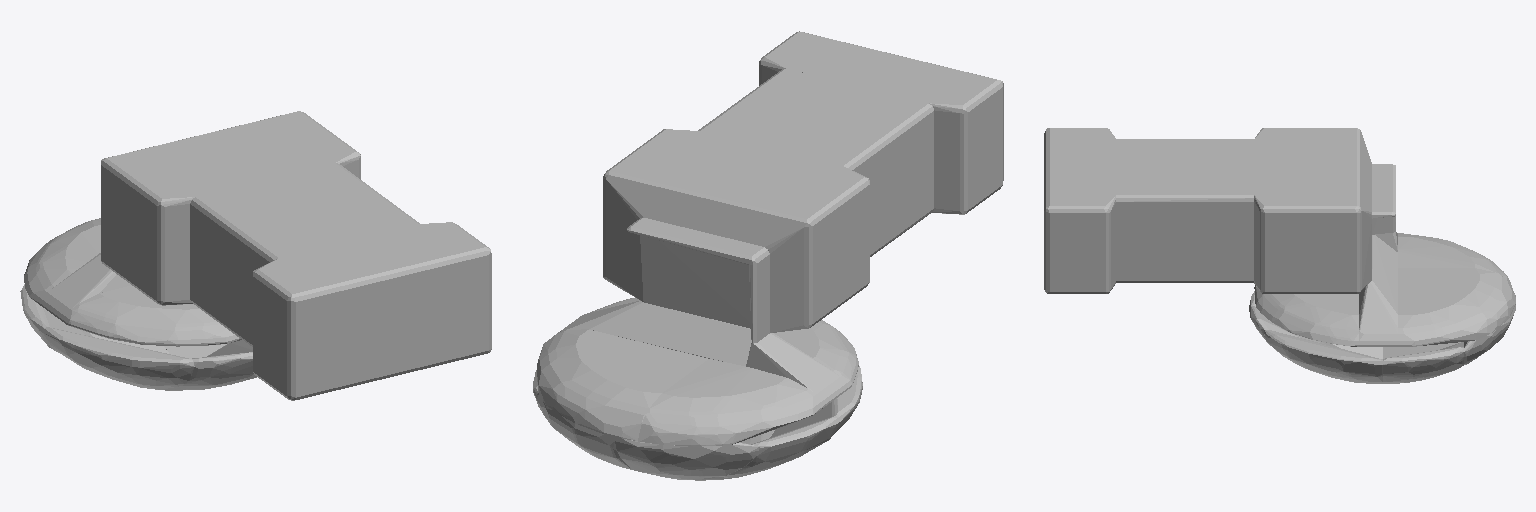
URDF robot description (root):
<robot name="root">
  <link name="link_coacd_convex_piece_0">
    <inertial>
      <origin xyz="0 0 0" rpy="0 0 0"/>
      <inertia ixx="-1.92E-03" ixy="-2.78E-04" ixz="-7.53E-05" iyy="2.57E-03" iyz="-5.13E-03" izz="-2.12E-04"/>
    </inertial>
    <visual>
      <origin xyz="0 0 0" rpy="0 0 0"/>
      <geometry>
        <mesh filename="coacd_convex_piece_0.obj" scale="1.0000E+00 1.0000E+00 1.0000E+00"/>
      </geometry>
      <material name="">
        <color rgba="7.50E-01 7.50E-01 7.50E-01 1"/>
      </material>
    </visual>
    <collision>
      <origin xyz="0 0 0" rpy="0 0 0"/>
      <geometry>
        <mesh filename="coacd_convex_piece_0.obj" scale="1.0000E+00 1.0000E+00 1.0000E+00"/>
      </geometry>
    </collision>
  </link>
  <link name="link_coacd_convex_piece_1">
    <inertial>
      <origin xyz="0 0 0" rpy="0 0 0"/>
      <inertia ixx="3.66E-03" ixy="1.49E-04" ixz="-7.73E-05" iyy="1.55E-03" iyz="8.93E-04" izz="4.24E-03"/>
    </inertial>
    <visual>
      <origin xyz="0 0 0" rpy="0 0 0"/>
      <geometry>
        <mesh filename="coacd_convex_piece_1.obj" scale="1.0000E+00 1.0000E+00 1.0000E+00"/>
      </geometry>
      <material name="">
        <color rgba="7.50E-01 7.50E-01 7.50E-01 1"/>
      </material>
    </visual>
    <collision>
      <origin xyz="0 0 0" rpy="0 0 0"/>
      <geometry>
        <mesh filename="coacd_convex_piece_1.obj" scale="1.0000E+00 1.0000E+00 1.0000E+00"/>
      </geometry>
    </collision>
  </link>
  <joint name="link_coacd_convex_piece_1_joint" type="fixed">
    <origin xyz="0 0 0" rpy="0 0 0"/>
    <parent link="link_coacd_convex_piece_0"/>
    <child link="link_coacd_convex_piece_1"/>
  </joint>
  <link name="link_coacd_convex_piece_2">
    <inertial>
      <origin xyz="0 0 0" rpy="0 0 0"/>
      <inertia ixx="1.54E-02" ixy="3.36E-04" ixz="-5.33E-05" iyy="1.67E-03" iyz="3.76E-03" izz="1.64E-02"/>
    </inertial>
    <visual>
      <origin xyz="0 0 0" rpy="0 0 0"/>
      <geometry>
        <mesh filename="coacd_convex_piece_2.obj" scale="1.0000E+00 1.0000E+00 1.0000E+00"/>
      </geometry>
      <material name="">
        <color rgba="7.50E-01 7.50E-01 7.50E-01 1"/>
      </material>
    </visual>
    <collision>
      <origin xyz="0 0 0" rpy="0 0 0"/>
      <geometry>
        <mesh filename="coacd_convex_piece_2.obj" scale="1.0000E+00 1.0000E+00 1.0000E+00"/>
      </geometry>
    </collision>
  </link>
  <joint name="link_coacd_convex_piece_2_joint" type="fixed">
    <origin xyz="0 0 0" rpy="0 0 0"/>
    <parent link="link_coacd_convex_piece_1"/>
    <child link="link_coacd_convex_piece_2"/>
  </joint>
  <link name="link_coacd_convex_piece_3">
    <inertial>
      <origin xyz="0 0 0" rpy="0 0 0"/>
      <inertia ixx="4.60E-05" ixy="-1.68E-07" ixz="2.18E-06" iyy="2.34E-05" iyz="-7.78E-05" izz="3.52E-05"/>
    </inertial>
    <visual>
      <origin xyz="0 0 0" rpy="0 0 0"/>
      <geometry>
        <mesh filename="coacd_convex_piece_3.obj" scale="1.0000E+00 1.0000E+00 1.0000E+00"/>
      </geometry>
      <material name="">
        <color rgba="7.50E-01 7.50E-01 7.50E-01 1"/>
      </material>
    </visual>
    <collision>
      <origin xyz="0 0 0" rpy="0 0 0"/>
      <geometry>
        <mesh filename="coacd_convex_piece_3.obj" scale="1.0000E+00 1.0000E+00 1.0000E+00"/>
      </geometry>
    </collision>
  </link>
  <joint name="link_coacd_convex_piece_3_joint" type="fixed">
    <origin xyz="0 0 0" rpy="0 0 0"/>
    <parent link="link_coacd_convex_piece_2"/>
    <child link="link_coacd_convex_piece_3"/>
  </joint>
  <link name="link_coacd_convex_piece_4">
    <inertial>
      <origin xyz="0 0 0" rpy="0 0 0"/>
      <inertia ixx="1.44E-05" ixy="2.34E-05" ixz="1.32E-05" iyy="6.47E-06" iyz="-4.33E-05" izz="3.51E-05"/>
    </inertial>
    <visual>
      <origin xyz="0 0 0" rpy="0 0 0"/>
      <geometry>
        <mesh filename="coacd_convex_piece_4.obj" scale="1.0000E+00 1.0000E+00 1.0000E+00"/>
      </geometry>
      <material name="">
        <color rgba="7.50E-01 7.50E-01 7.50E-01 1"/>
      </material>
    </visual>
    <collision>
      <origin xyz="0 0 0" rpy="0 0 0"/>
      <geometry>
        <mesh filename="coacd_convex_piece_4.obj" scale="1.0000E+00 1.0000E+00 1.0000E+00"/>
      </geometry>
    </collision>
  </link>
  <joint name="link_coacd_convex_piece_4_joint" type="fixed">
    <origin xyz="0 0 0" rpy="0 0 0"/>
    <parent link="link_coacd_convex_piece_3"/>
    <child link="link_coacd_convex_piece_4"/>
  </joint>
  <link name="link_coacd_convex_piece_5">
    <inertial>
      <origin xyz="0 0 0" rpy="0 0 0"/>
      <inertia ixx="1.62E-03" ixy="-5.73E-04" ixz="8.04E-05" iyy="-1.04E-04" iyz="-1.64E-04" izz="2.22E-03"/>
    </inertial>
    <visual>
      <origin xyz="0 0 0" rpy="0 0 0"/>
      <geometry>
        <mesh filename="coacd_convex_piece_5.obj" scale="1.0000E+00 1.0000E+00 1.0000E+00"/>
      </geometry>
      <material name="">
        <color rgba="7.50E-01 7.50E-01 7.50E-01 1"/>
      </material>
    </visual>
    <collision>
      <origin xyz="0 0 0" rpy="0 0 0"/>
      <geometry>
        <mesh filename="coacd_convex_piece_5.obj" scale="1.0000E+00 1.0000E+00 1.0000E+00"/>
      </geometry>
    </collision>
  </link>
  <joint name="link_coacd_convex_piece_5_joint" type="fixed">
    <origin xyz="0 0 0" rpy="0 0 0"/>
    <parent link="link_coacd_convex_piece_4"/>
    <child link="link_coacd_convex_piece_5"/>
  </joint>
  <link name="link_coacd_convex_piece_6">
    <inertial>
      <origin xyz="0 0 0" rpy="0 0 0"/>
      <inertia ixx="9.42E-04" ixy="4.99E-04" ixz="-4.38E-05" iyy="1.11E-05" iyz="-1.07E-04" izz="1.40E-03"/>
    </inertial>
    <visual>
      <origin xyz="0 0 0" rpy="0 0 0"/>
      <geometry>
        <mesh filename="coacd_convex_piece_6.obj" scale="1.0000E+00 1.0000E+00 1.0000E+00"/>
      </geometry>
      <material name="">
        <color rgba="7.50E-01 7.50E-01 7.50E-01 1"/>
      </material>
    </visual>
    <collision>
      <origin xyz="0 0 0" rpy="0 0 0"/>
      <geometry>
        <mesh filename="coacd_convex_piece_6.obj" scale="1.0000E+00 1.0000E+00 1.0000E+00"/>
      </geometry>
    </collision>
  </link>
  <joint name="link_coacd_convex_piece_6_joint" type="fixed">
    <origin xyz="0 0 0" rpy="0 0 0"/>
    <parent link="link_coacd_convex_piece_5"/>
    <child link="link_coacd_convex_piece_6"/>
  </joint>
  <link name="link_coacd_convex_piece_7">
    <inertial>
      <origin xyz="0 0 0" rpy="0 0 0"/>
      <inertia ixx="-8.93E-04" ixy="-2.76E-05" ixz="2.65E-05" iyy="-1.32E-04" iyz="-5.16E-04" izz="3.04E-06"/>
    </inertial>
    <visual>
      <origin xyz="0 0 0" rpy="0 0 0"/>
      <geometry>
        <mesh filename="coacd_convex_piece_7.obj" scale="1.0000E+00 1.0000E+00 1.0000E+00"/>
      </geometry>
      <material name="">
        <color rgba="7.50E-01 7.50E-01 7.50E-01 1"/>
      </material>
    </visual>
    <collision>
      <origin xyz="0 0 0" rpy="0 0 0"/>
      <geometry>
        <mesh filename="coacd_convex_piece_7.obj" scale="1.0000E+00 1.0000E+00 1.0000E+00"/>
      </geometry>
    </collision>
  </link>
  <joint name="link_coacd_convex_piece_7_joint" type="fixed">
    <origin xyz="0 0 0" rpy="0 0 0"/>
    <parent link="link_coacd_convex_piece_6"/>
    <child link="link_coacd_convex_piece_7"/>
  </joint>
  <link name="link_coacd_convex_piece_8">
    <inertial>
      <origin xyz="0 0 0" rpy="0 0 0"/>
      <inertia ixx="-2.63E-05" ixy="-1.84E-04" ixz="3.26E-05" iyy="-6.45E-05" iyz="-2.30E-04" izz="3.86E-04"/>
    </inertial>
    <visual>
      <origin xyz="0 0 0" rpy="0 0 0"/>
      <geometry>
        <mesh filename="coacd_convex_piece_8.obj" scale="1.0000E+00 1.0000E+00 1.0000E+00"/>
      </geometry>
      <material name="">
        <color rgba="7.50E-01 7.50E-01 7.50E-01 1"/>
      </material>
    </visual>
    <collision>
      <origin xyz="0 0 0" rpy="0 0 0"/>
      <geometry>
        <mesh filename="coacd_convex_piece_8.obj" scale="1.0000E+00 1.0000E+00 1.0000E+00"/>
      </geometry>
    </collision>
  </link>
  <joint name="link_coacd_convex_piece_8_joint" type="fixed">
    <origin xyz="0 0 0" rpy="0 0 0"/>
    <parent link="link_coacd_convex_piece_7"/>
    <child link="link_coacd_convex_piece_8"/>
  </joint>
  <link name="link_coacd_convex_piece_9">
    <inertial>
      <origin xyz="0 0 0" rpy="0 0 0"/>
      <inertia ixx="-2.71E-06" ixy="1.38E-04" ixz="-7.84E-06" iyy="4.75E-05" iyz="-7.57E-05" izz="2.03E-04"/>
    </inertial>
    <visual>
      <origin xyz="0 0 0" rpy="0 0 0"/>
      <geometry>
        <mesh filename="coacd_convex_piece_9.obj" scale="1.0000E+00 1.0000E+00 1.0000E+00"/>
      </geometry>
      <material name="">
        <color rgba="7.50E-01 7.50E-01 7.50E-01 1"/>
      </material>
    </visual>
    <collision>
      <origin xyz="0 0 0" rpy="0 0 0"/>
      <geometry>
        <mesh filename="coacd_convex_piece_9.obj" scale="1.0000E+00 1.0000E+00 1.0000E+00"/>
      </geometry>
    </collision>
  </link>
  <joint name="link_coacd_convex_piece_9_joint" type="fixed">
    <origin xyz="0 0 0" rpy="0 0 0"/>
    <parent link="link_coacd_convex_piece_8"/>
    <child link="link_coacd_convex_piece_9"/>
  </joint>
  <link name="link_coacd_convex_piece_10">
    <inertial>
      <origin xyz="0 0 0" rpy="0 0 0"/>
      <inertia ixx="9.66E-04" ixy="-2.35E-04" ixz="6.38E-05" iyy="1.12E-05" iyz="1.57E-04" izz="1.08E-03"/>
    </inertial>
    <visual>
      <origin xyz="0 0 0" rpy="0 0 0"/>
      <geometry>
        <mesh filename="coacd_convex_piece_10.obj" scale="1.0000E+00 1.0000E+00 1.0000E+00"/>
      </geometry>
      <material name="">
        <color rgba="7.50E-01 7.50E-01 7.50E-01 1"/>
      </material>
    </visual>
    <collision>
      <origin xyz="0 0 0" rpy="0 0 0"/>
      <geometry>
        <mesh filename="coacd_convex_piece_10.obj" scale="1.0000E+00 1.0000E+00 1.0000E+00"/>
      </geometry>
    </collision>
  </link>
  <joint name="link_coacd_convex_piece_10_joint" type="fixed">
    <origin xyz="0 0 0" rpy="0 0 0"/>
    <parent link="link_coacd_convex_piece_9"/>
    <child link="link_coacd_convex_piece_10"/>
  </joint>
  <link name="link_coacd_convex_piece_11">
    <inertial>
      <origin xyz="0 0 0" rpy="0 0 0"/>
      <inertia ixx="9.63E-04" ixy="2.22E-04" ixz="-5.15E-05" iyy="1.23E-05" iyz="1.58E-04" izz="1.08E-03"/>
    </inertial>
    <visual>
      <origin xyz="0 0 0" rpy="0 0 0"/>
      <geometry>
        <mesh filename="coacd_convex_piece_11.obj" scale="1.0000E+00 1.0000E+00 1.0000E+00"/>
      </geometry>
      <material name="">
        <color rgba="7.50E-01 7.50E-01 7.50E-01 1"/>
      </material>
    </visual>
    <collision>
      <origin xyz="0 0 0" rpy="0 0 0"/>
      <geometry>
        <mesh filename="coacd_convex_piece_11.obj" scale="1.0000E+00 1.0000E+00 1.0000E+00"/>
      </geometry>
    </collision>
  </link>
  <joint name="link_coacd_convex_piece_11_joint" type="fixed">
    <origin xyz="0 0 0" rpy="0 0 0"/>
    <parent link="link_coacd_convex_piece_10"/>
    <child link="link_coacd_convex_piece_11"/>
  </joint>
  <link name="link_coacd_convex_piece_12">
    <inertial>
      <origin xyz="0 0 0" rpy="0 0 0"/>
      <inertia ixx="-1.36E-04" ixy="-2.53E-04" ixz="2.57E-04" iyy="3.35E-04" iyz="-8.47E-05" izz="3.04E-04"/>
    </inertial>
    <visual>
      <origin xyz="0 0 0" rpy="0 0 0"/>
      <geometry>
        <mesh filename="coacd_convex_piece_12.obj" scale="1.0000E+00 1.0000E+00 1.0000E+00"/>
      </geometry>
      <material name="">
        <color rgba="7.50E-01 7.50E-01 7.50E-01 1"/>
      </material>
    </visual>
    <collision>
      <origin xyz="0 0 0" rpy="0 0 0"/>
      <geometry>
        <mesh filename="coacd_convex_piece_12.obj" scale="1.0000E+00 1.0000E+00 1.0000E+00"/>
      </geometry>
    </collision>
  </link>
  <joint name="link_coacd_convex_piece_12_joint" type="fixed">
    <origin xyz="0 0 0" rpy="0 0 0"/>
    <parent link="link_coacd_convex_piece_11"/>
    <child link="link_coacd_convex_piece_12"/>
  </joint>
  <link name="link_coacd_convex_piece_13">
    <inertial>
      <origin xyz="0 0 0" rpy="0 0 0"/>
      <inertia ixx="-1.06E-04" ixy="-6.92E-05" ixz="1.26E-04" iyy="1.16E-04" iyz="-1.04E-04" izz="-1.07E-04"/>
    </inertial>
    <visual>
      <origin xyz="0 0 0" rpy="0 0 0"/>
      <geometry>
        <mesh filename="coacd_convex_piece_13.obj" scale="1.0000E+00 1.0000E+00 1.0000E+00"/>
      </geometry>
      <material name="">
        <color rgba="7.50E-01 7.50E-01 7.50E-01 1"/>
      </material>
    </visual>
    <collision>
      <origin xyz="0 0 0" rpy="0 0 0"/>
      <geometry>
        <mesh filename="coacd_convex_piece_13.obj" scale="1.0000E+00 1.0000E+00 1.0000E+00"/>
      </geometry>
    </collision>
  </link>
  <joint name="link_coacd_convex_piece_13_joint" type="fixed">
    <origin xyz="0 0 0" rpy="0 0 0"/>
    <parent link="link_coacd_convex_piece_12"/>
    <child link="link_coacd_convex_piece_13"/>
  </joint>
  <link name="link_coacd_convex_piece_14">
    <inertial>
      <origin xyz="0 0 0" rpy="0 0 0"/>
      <inertia ixx="-1.01E-04" ixy="4.21E-05" ixz="-9.94E-05" iyy="1.19E-04" iyz="-1.03E-04" izz="-1.09E-04"/>
    </inertial>
    <visual>
      <origin xyz="0 0 0" rpy="0 0 0"/>
      <geometry>
        <mesh filename="coacd_convex_piece_14.obj" scale="1.0000E+00 1.0000E+00 1.0000E+00"/>
      </geometry>
      <material name="">
        <color rgba="7.50E-01 7.50E-01 7.50E-01 1"/>
      </material>
    </visual>
    <collision>
      <origin xyz="0 0 0" rpy="0 0 0"/>
      <geometry>
        <mesh filename="coacd_convex_piece_14.obj" scale="1.0000E+00 1.0000E+00 1.0000E+00"/>
      </geometry>
    </collision>
  </link>
  <joint name="link_coacd_convex_piece_14_joint" type="fixed">
    <origin xyz="0 0 0" rpy="0 0 0"/>
    <parent link="link_coacd_convex_piece_13"/>
    <child link="link_coacd_convex_piece_14"/>
  </joint>
  <link name="link_coacd_convex_piece_15">
    <inertial>
      <origin xyz="0 0 0" rpy="0 0 0"/>
      <inertia ixx="-1.47E-04" ixy="2.36E-04" ixz="-2.45E-04" iyy="3.48E-04" iyz="-9.08E-05" izz="3.12E-04"/>
    </inertial>
    <visual>
      <origin xyz="0 0 0" rpy="0 0 0"/>
      <geometry>
        <mesh filename="coacd_convex_piece_15.obj" scale="1.0000E+00 1.0000E+00 1.0000E+00"/>
      </geometry>
      <material name="">
        <color rgba="7.50E-01 7.50E-01 7.50E-01 1"/>
      </material>
    </visual>
    <collision>
      <origin xyz="0 0 0" rpy="0 0 0"/>
      <geometry>
        <mesh filename="coacd_convex_piece_15.obj" scale="1.0000E+00 1.0000E+00 1.0000E+00"/>
      </geometry>
    </collision>
  </link>
  <joint name="link_coacd_convex_piece_15_joint" type="fixed">
    <origin xyz="0 0 0" rpy="0 0 0"/>
    <parent link="link_coacd_convex_piece_14"/>
    <child link="link_coacd_convex_piece_15"/>
  </joint>
  <link name="link_coacd_convex_piece_16">
    <inertial>
      <origin xyz="0 0 0" rpy="0 0 0"/>
      <inertia ixx="3.90E-04" ixy="-3.83E-04" ixz="1.66E-04" iyy="2.39E-04" iyz="9.52E-05" izz="6.81E-04"/>
    </inertial>
    <visual>
      <origin xyz="0 0 0" rpy="0 0 0"/>
      <geometry>
        <mesh filename="coacd_convex_piece_16.obj" scale="1.0000E+00 1.0000E+00 1.0000E+00"/>
      </geometry>
      <material name="">
        <color rgba="7.50E-01 7.50E-01 7.50E-01 1"/>
      </material>
    </visual>
    <collision>
      <origin xyz="0 0 0" rpy="0 0 0"/>
      <geometry>
        <mesh filename="coacd_convex_piece_16.obj" scale="1.0000E+00 1.0000E+00 1.0000E+00"/>
      </geometry>
    </collision>
  </link>
  <joint name="link_coacd_convex_piece_16_joint" type="fixed">
    <origin xyz="0 0 0" rpy="0 0 0"/>
    <parent link="link_coacd_convex_piece_15"/>
    <child link="link_coacd_convex_piece_16"/>
  </joint>
  <link name="link_coacd_convex_piece_17">
    <inertial>
      <origin xyz="0 0 0" rpy="0 0 0"/>
      <inertia ixx="5.12E-04" ixy="-1.36E-04" ixz="8.41E-05" iyy="1.30E-04" iyz="2.05E-04" izz="4.59E-04"/>
    </inertial>
    <visual>
      <origin xyz="0 0 0" rpy="0 0 0"/>
      <geometry>
        <mesh filename="coacd_convex_piece_17.obj" scale="1.0000E+00 1.0000E+00 1.0000E+00"/>
      </geometry>
      <material name="">
        <color rgba="7.50E-01 7.50E-01 7.50E-01 1"/>
      </material>
    </visual>
    <collision>
      <origin xyz="0 0 0" rpy="0 0 0"/>
      <geometry>
        <mesh filename="coacd_convex_piece_17.obj" scale="1.0000E+00 1.0000E+00 1.0000E+00"/>
      </geometry>
    </collision>
  </link>
  <joint name="link_coacd_convex_piece_17_joint" type="fixed">
    <origin xyz="0 0 0" rpy="0 0 0"/>
    <parent link="link_coacd_convex_piece_16"/>
    <child link="link_coacd_convex_piece_17"/>
  </joint>
  <link name="link_coacd_convex_piece_18">
    <inertial>
      <origin xyz="0 0 0" rpy="0 0 0"/>
      <inertia ixx="4.76E-04" ixy="1.08E-04" ixz="-6.44E-05" iyy="1.22E-04" iyz="1.93E-04" izz="4.20E-04"/>
    </inertial>
    <visual>
      <origin xyz="0 0 0" rpy="0 0 0"/>
      <geometry>
        <mesh filename="coacd_convex_piece_18.obj" scale="1.0000E+00 1.0000E+00 1.0000E+00"/>
      </geometry>
      <material name="">
        <color rgba="7.50E-01 7.50E-01 7.50E-01 1"/>
      </material>
    </visual>
    <collision>
      <origin xyz="0 0 0" rpy="0 0 0"/>
      <geometry>
        <mesh filename="coacd_convex_piece_18.obj" scale="1.0000E+00 1.0000E+00 1.0000E+00"/>
      </geometry>
    </collision>
  </link>
  <joint name="link_coacd_convex_piece_18_joint" type="fixed">
    <origin xyz="0 0 0" rpy="0 0 0"/>
    <parent link="link_coacd_convex_piece_17"/>
    <child link="link_coacd_convex_piece_18"/>
  </joint>
  <link name="link_coacd_convex_piece_19">
    <inertial>
      <origin xyz="0 0 0" rpy="0 0 0"/>
      <inertia ixx="4.11E-04" ixy="3.83E-04" ixz="-1.60E-04" iyy="2.48E-04" iyz="1.02E-04" izz="7.10E-04"/>
    </inertial>
    <visual>
      <origin xyz="0 0 0" rpy="0 0 0"/>
      <geometry>
        <mesh filename="coacd_convex_piece_19.obj" scale="1.0000E+00 1.0000E+00 1.0000E+00"/>
      </geometry>
      <material name="">
        <color rgba="7.50E-01 7.50E-01 7.50E-01 1"/>
      </material>
    </visual>
    <collision>
      <origin xyz="0 0 0" rpy="0 0 0"/>
      <geometry>
        <mesh filename="coacd_convex_piece_19.obj" scale="1.0000E+00 1.0000E+00 1.0000E+00"/>
      </geometry>
    </collision>
  </link>
  <joint name="link_coacd_convex_piece_19_joint" type="fixed">
    <origin xyz="0 0 0" rpy="0 0 0"/>
    <parent link="link_coacd_convex_piece_18"/>
    <child link="link_coacd_convex_piece_19"/>
  </joint>
</robot>

--- Facts derived from the render (not from the file) ---
3 views of the same robot in one strip: view 1: azimuth 30°, elevation 25°; view 2: azimuth 150°, elevation 25°; view 3: azimuth 270°, elevation 25° (orthographic).
Robot: root — 20 links, 19 joints (19 fixed); root link link_coacd_convex_piece_0; default pose: all joints at 0.
Links seen in each view (by area): view 1: link_coacd_convex_piece_2, link_coacd_convex_piece_0, link_coacd_convex_piece_1, link_coacd_convex_piece_7, link_coacd_convex_piece_15, link_coacd_convex_piece_6, link_coacd_convex_piece_9, link_coacd_convex_piece_14, link_coacd_convex_piece_19, link_coacd_convex_piece_17; view 2: link_coacd_convex_piece_0, link_coacd_convex_piece_1, link_coacd_convex_piece_2, link_coacd_convex_piece_5, link_coacd_convex_piece_6, link_coacd_convex_piece_8, link_coacd_convex_piece_11, link_coacd_convex_piece_9, link_coacd_convex_piece_3, link_coacd_convex_piece_7, link_coacd_convex_piece_19, link_coacd_convex_piece_10 (+2 smaller); view 3: link_coacd_convex_piece_1, link_coacd_convex_piece_0, link_coacd_convex_piece_2, link_coacd_convex_piece_5, link_coacd_convex_piece_7, link_coacd_convex_piece_8, link_coacd_convex_piece_12, link_coacd_convex_piece_6, link_coacd_convex_piece_16, link_coacd_convex_piece_3, link_coacd_convex_piece_10, link_coacd_convex_piece_13.
Boxes of the visible links, x1,y1,x2,y2 form: link_coacd_convex_piece_2: [253, 222, 491, 400]; link_coacd_convex_piece_0: [101, 111, 360, 305]; link_coacd_convex_piece_1: [190, 163, 419, 347]; link_coacd_convex_piece_7: [64, 285, 241, 346]; link_coacd_convex_piece_15: [42, 327, 194, 389]; link_coacd_convex_piece_6: [24, 220, 100, 304]; link_coacd_convex_piece_9: [40, 253, 130, 321]; link_coacd_convex_piece_14: [162, 352, 253, 390]; link_coacd_convex_piece_19: [20, 285, 92, 351]; link_coacd_convex_piece_17: [164, 343, 228, 358]; link_coacd_convex_piece_0: [603, 129, 869, 332]; link_coacd_convex_piece_1: [698, 69, 933, 256]; link_coacd_convex_piece_2: [759, 31, 1003, 214]; link_coacd_convex_piece_5: [537, 329, 707, 440]; link_coacd_convex_piece_6: [638, 359, 823, 445]; link_coacd_convex_piece_8: [560, 301, 751, 365]; link_coacd_convex_piece_11: [615, 437, 758, 478]; link_coacd_convex_piece_9: [746, 333, 847, 406]; link_coacd_convex_piece_3: [627, 217, 769, 265]; link_coacd_convex_piece_7: [590, 298, 858, 388]; link_coacd_convex_piece_19: [720, 416, 839, 478]; link_coacd_convex_piece_10: [536, 393, 631, 469]; link_coacd_convex_piece_1: [1116, 139, 1253, 282]; link_coacd_convex_piece_0: [1254, 128, 1371, 293]; link_coacd_convex_piece_2: [1044, 128, 1115, 293]; link_coacd_convex_piece_5: [1398, 268, 1515, 346]; link_coacd_convex_piece_7: [1254, 285, 1358, 346]; link_coacd_convex_piece_8: [1359, 235, 1397, 346]; link_coacd_convex_piece_12: [1264, 330, 1382, 383]; link_coacd_convex_piece_6: [1398, 233, 1513, 291]; link_coacd_convex_piece_16: [1383, 347, 1463, 382]; link_coacd_convex_piece_3: [1372, 164, 1395, 218]; link_coacd_convex_piece_10: [1464, 305, 1515, 364]; link_coacd_convex_piece_13: [1249, 306, 1338, 347].
Bounding box of the posed robot: 0.9284 × 1.64 × 0.8213 m (x, y, z).
Meshes: 20 distinct files referenced, 20 mesh visuals loaded (20 OBJ).
